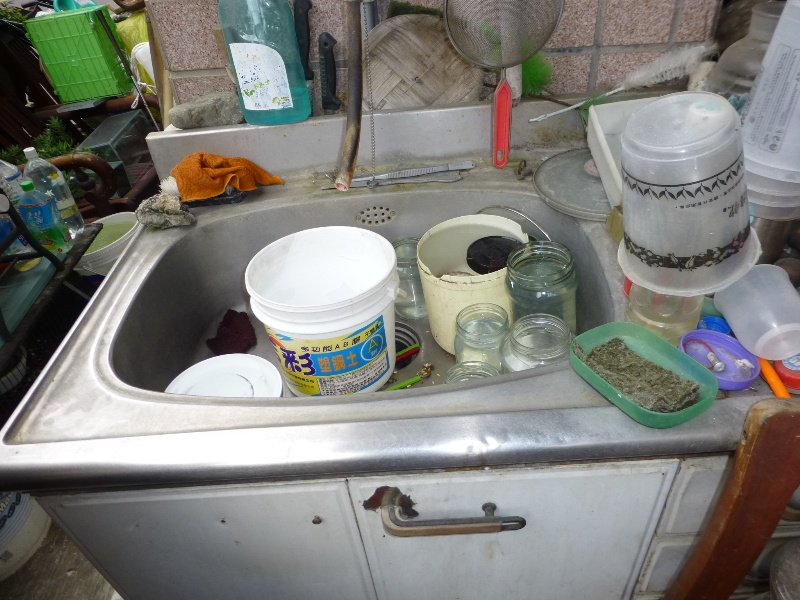bottle: (620, 87, 762, 297), (711, 262, 800, 362), (21, 140, 87, 242), (12, 176, 73, 258), (453, 298, 507, 381)
bucket: (239, 221, 409, 401), (419, 213, 533, 361)
plate: (567, 318, 721, 429), (678, 326, 763, 393)
